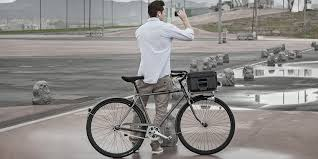bicycle: (74, 55, 250, 158)
